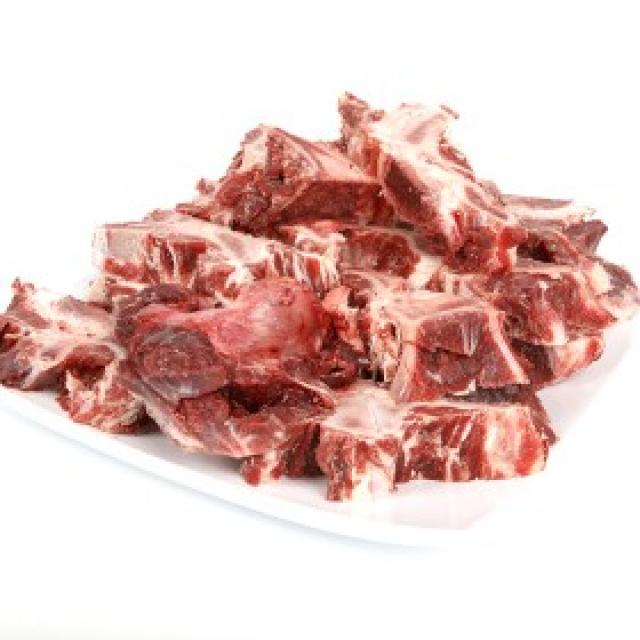pork: (16, 107, 613, 488)
